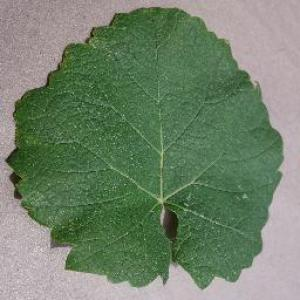Folha: (4, 6, 284, 289)
